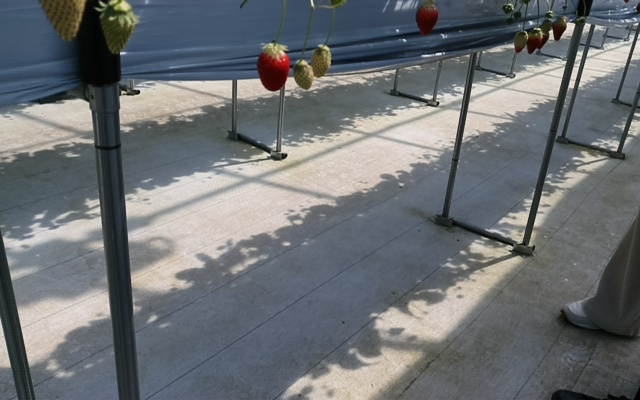GreenStrawberry: (96, 1, 139, 54), (38, 1, 88, 42), (291, 59, 316, 92), (309, 44, 333, 78), (511, 30, 527, 52)
MatureStrawberry: (255, 43, 293, 93), (414, 2, 439, 37), (526, 28, 542, 57), (552, 16, 566, 42)
